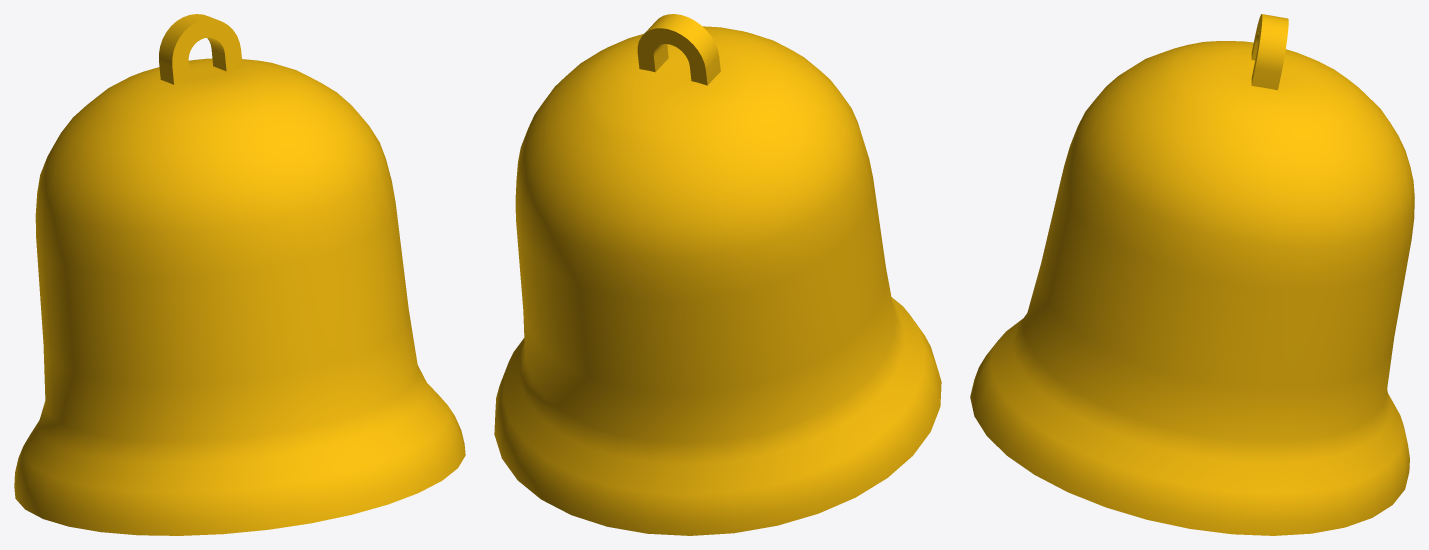
The model's file is bell.gltf.
The picture shows the model from 3 angles, left to right: view 1: azimuth 30°, elevation 25°; view 2: azimuth 150°, elevation 25°; view 3: azimuth 270°, elevation 25°; orthographic projection.
Parts seen in each view (by area): view 1: Cylinder.491; view 2: Cylinder.491; view 3: Cylinder.491.
Part boxes in pixels (<box>): Cylinder.491: <box>14,14,465,535</box>; Cylinder.491: <box>494,14,941,535</box>; Cylinder.491: <box>970,14,1414,535</box>.
Size of the model in its own units: 1.99 by 2.23 by 1.98.
Materials: 1 (1 with a texture image).
